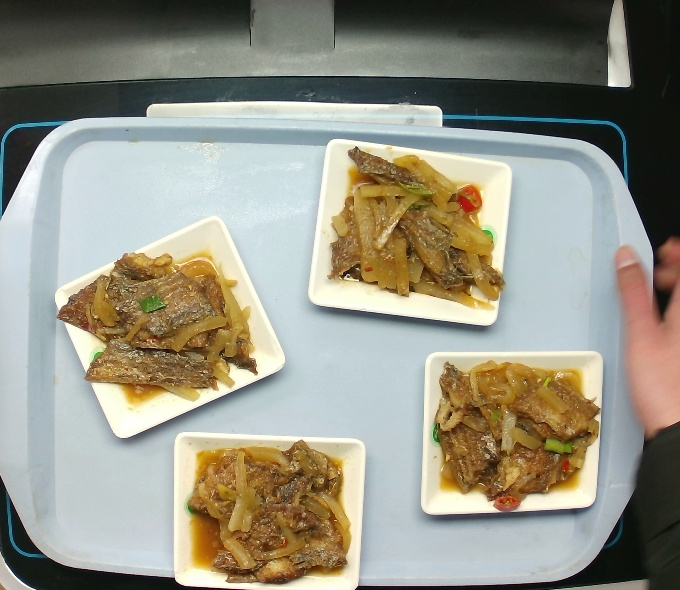wcq-DaiYu: (424, 361, 606, 525), (56, 254, 259, 397), (328, 145, 506, 303), (186, 439, 349, 586)
